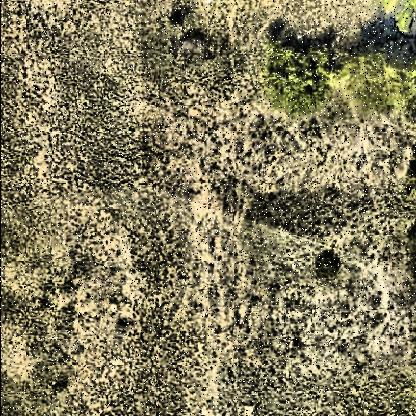tree-top: (338, 23, 414, 121), (266, 34, 340, 124), (315, 253, 344, 283)
